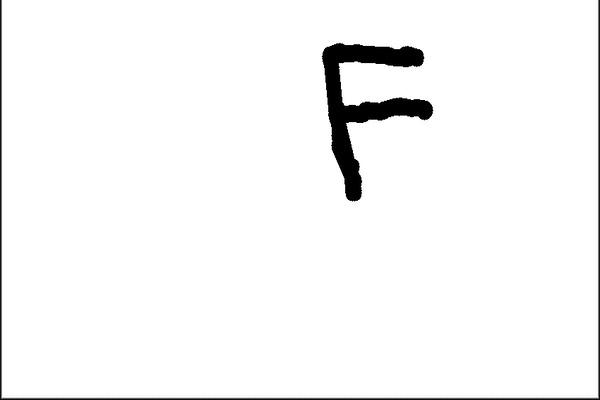F: (318, 38, 435, 205)
